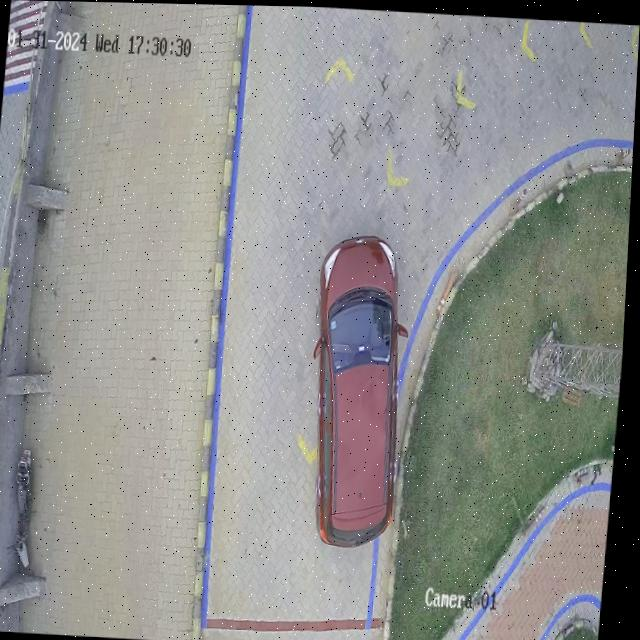car: (318, 234, 411, 543)
